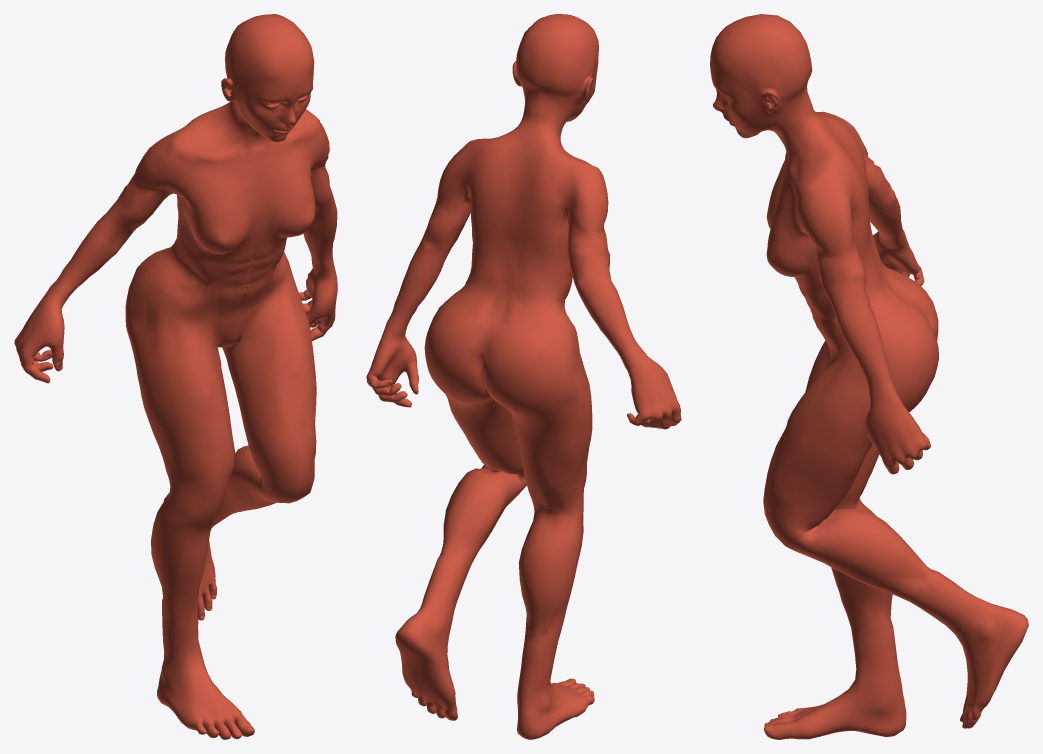
The model's file is lily.obj.
The picture shows the model from 3 angles, left to right: view 1: azimuth 30°, elevation 25°; view 2: azimuth 150°, elevation 25°; view 3: azimuth 270°, elevation 25°; orthographic projection. The views are drawn at different scales.
Visible parts, largest first — view 1: lily_makehuman-female_muscle_13442; view 2: lily_makehuman-female_muscle_13442; view 3: lily_makehuman-female_muscle_13442.
Part boxes in pixels (x1,y1,x2,y2): lily_makehuman-female_muscle_13442: (14, 14, 337, 739); lily_makehuman-female_muscle_13442: (366, 14, 681, 739); lily_makehuman-female_muscle_13442: (710, 14, 1028, 739).
Bounding box in the file's own units: 1.46 × 3.14 × 1.24.
